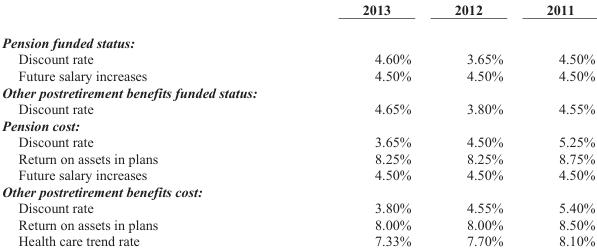table: (1, 1, 594, 248)
table column: (1, 1, 259, 248), (259, 1, 432, 248), (432, 1, 524, 248), (524, 1, 594, 248)
table column header: (1, 1, 594, 25)
table projected row header: (1, 25, 594, 50), (1, 83, 594, 100), (1, 116, 594, 133), (1, 182, 594, 199)
table row: (1, 25, 594, 50), (1, 1, 594, 25), (1, 66, 594, 83), (1, 83, 594, 100), (1, 116, 594, 133), (1, 149, 594, 166), (1, 182, 594, 199), (1, 215, 594, 232), (1, 50, 594, 66), (1, 100, 594, 116), (1, 133, 594, 149), (1, 166, 594, 182), (1, 199, 594, 215), (1, 232, 594, 248)
